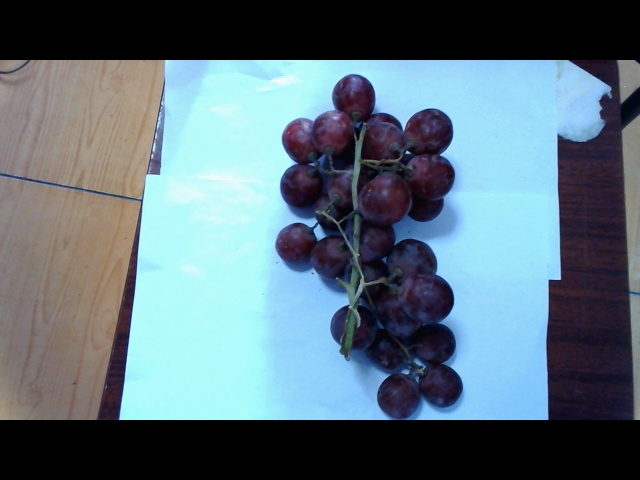grape: (266, 90, 483, 420)
